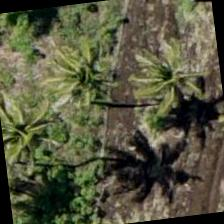Kelapa_Sawit: (122, 27, 222, 128), (35, 21, 135, 121), (0, 91, 72, 189)
